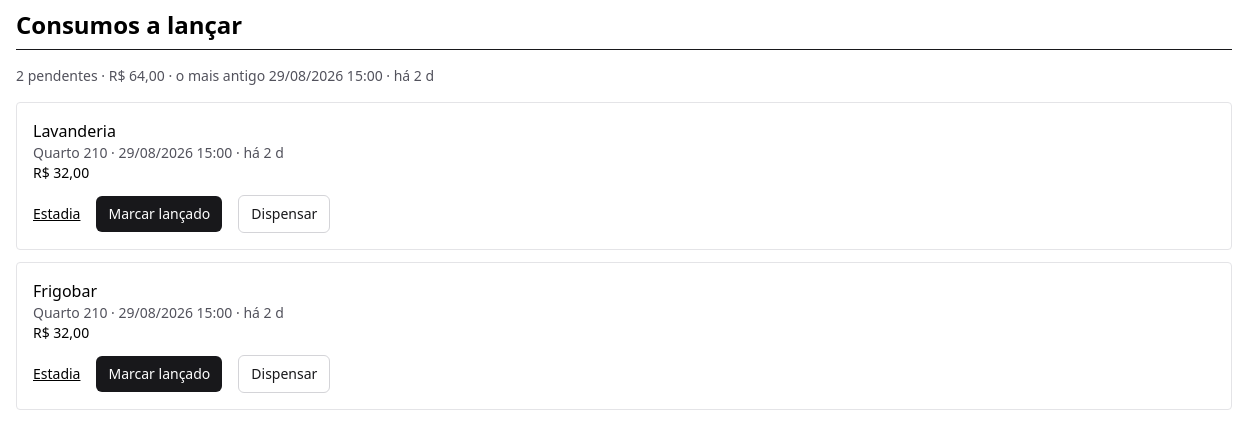
Scenario: TelaConsumos › Dispensar faz POST distinto do lançar e some o item
Expected: the text "Lavanderia" is shown, 33,120 -> 116,142
Expected: the number of buttons "Dispensar" is 2, 238,195 -> 330,233; 238,355 -> 330,393
Click the button "Marcar lançado" below "Frigobar" at [159, 374], box 96,356 -> 222,392
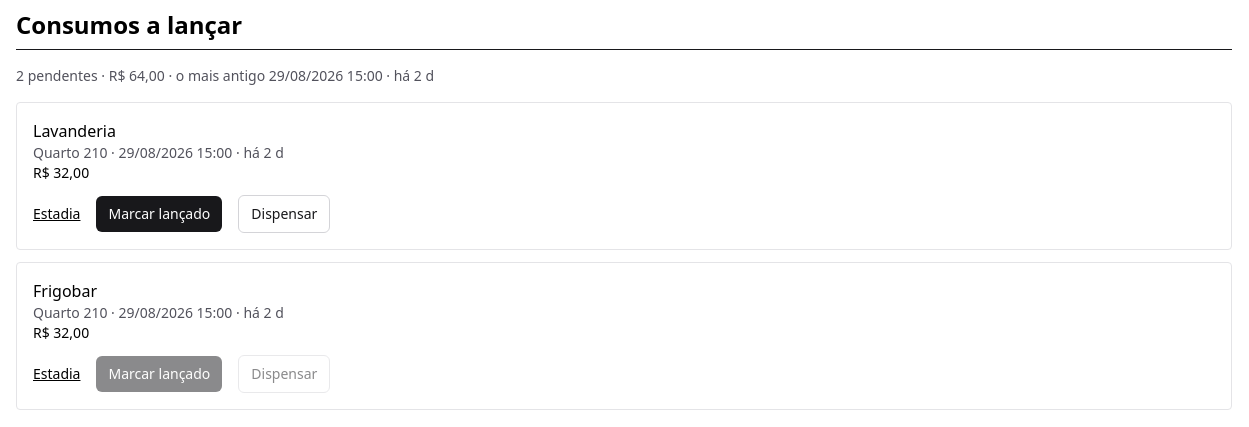
Click the button "Dispensar" below "Lavanderia" at [284, 214], box 238,195 -> 330,233
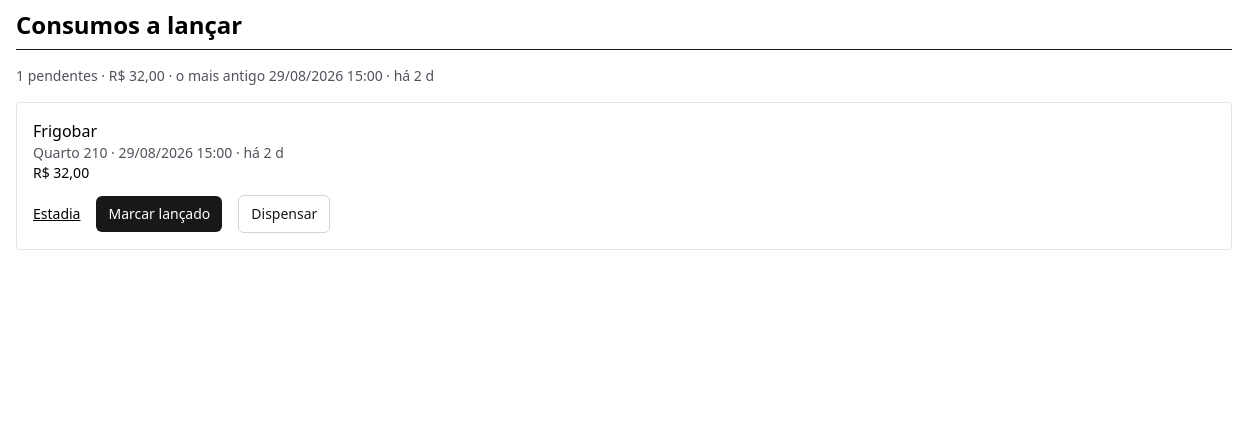
Expected: the text "Frigobar" is shown, 33,120 -> 97,142
Expected: the text "Lavanderia" is gone
